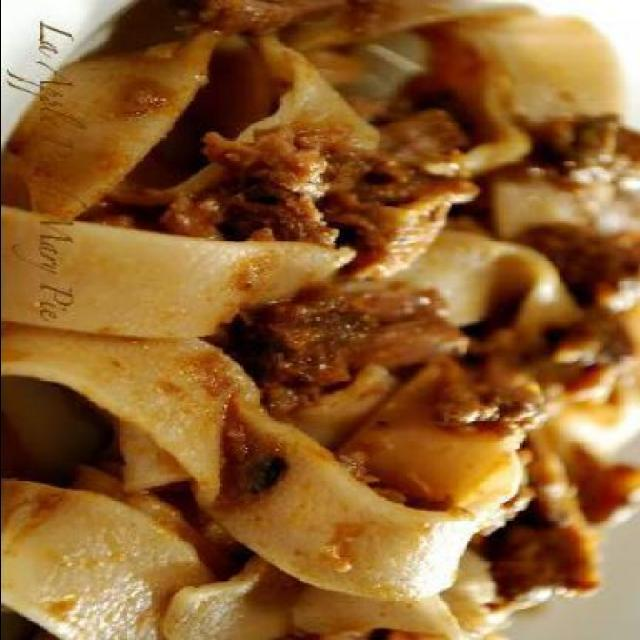Pasta al ragu: (80, 31, 616, 638)
